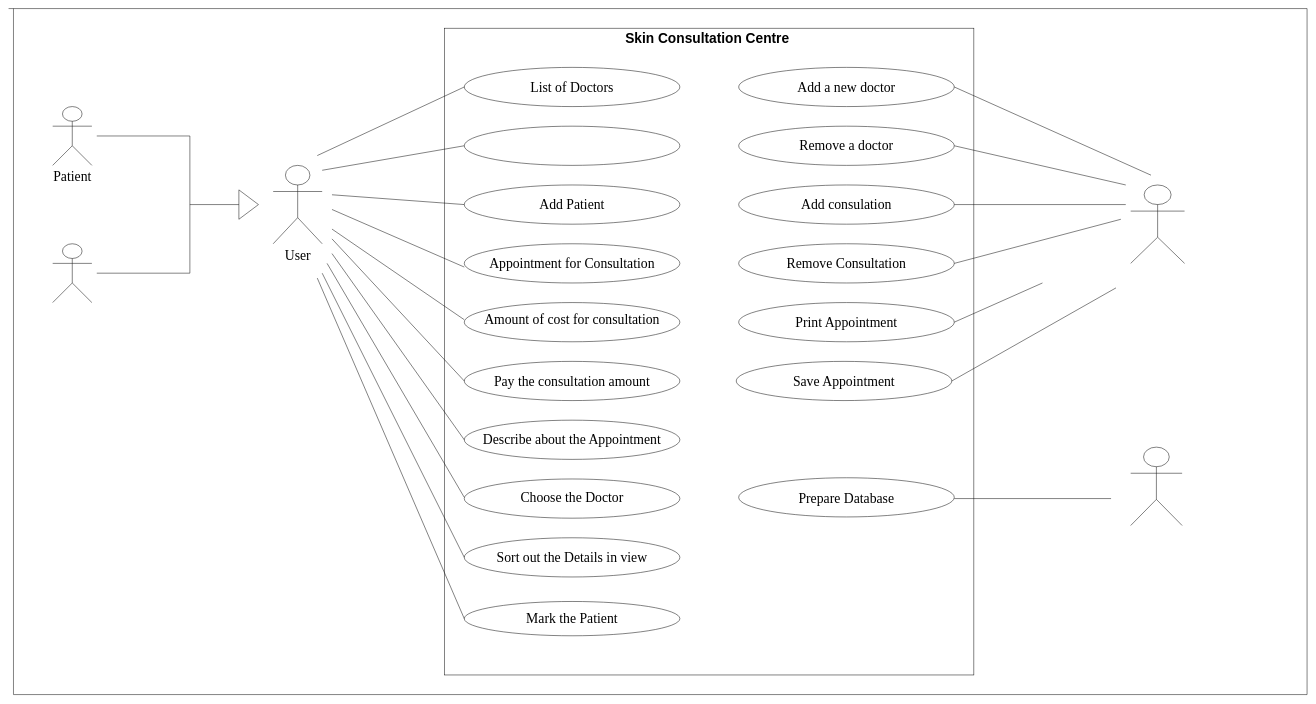
Some shapes in this 1316 by 704 pixel diagram are drawn without their labels. Each missing label, with the centre of its shape:
Availability of Doctor: [572,145]
Staff: [72,273]
WestminsterSkinConsultationManager: [1157,223]
WestmisterSkinConsultantCentreDatabase: [1156,486]
